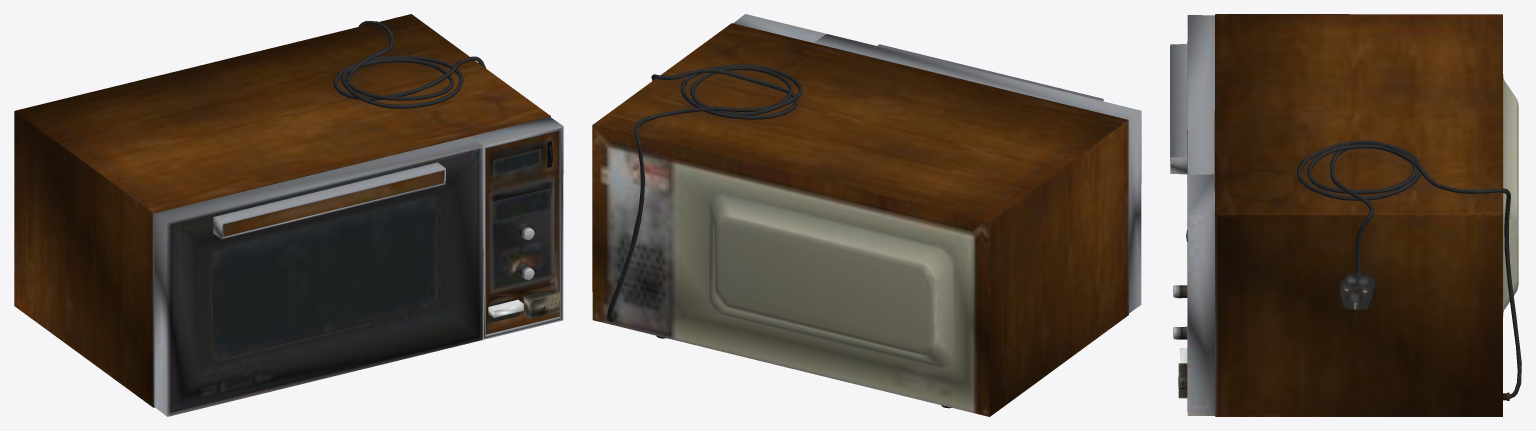
File: vintage_microwave.gltf
The picture shows the model from 3 angles, left to right: view 1: azimuth 30°, elevation 25°; view 2: azimuth 150°, elevation 25°; view 3: azimuth 270°, elevation 25°; orthographic projection. The views are drawn at different scales.
Parts seen in each view (by area): view 1: vintage_microwave; view 2: vintage_microwave; view 3: vintage_microwave.
Part boxes in pixels (bbox=[...]): vintage_microwave: bbox=[14, 14, 563, 416]; vintage_microwave: bbox=[592, 14, 1141, 416]; vintage_microwave: bbox=[1170, 14, 1521, 416].
Bounding box in the file's own units: 1.07 × 0.5258 × 0.7451.
2 materials, 2 textured.
